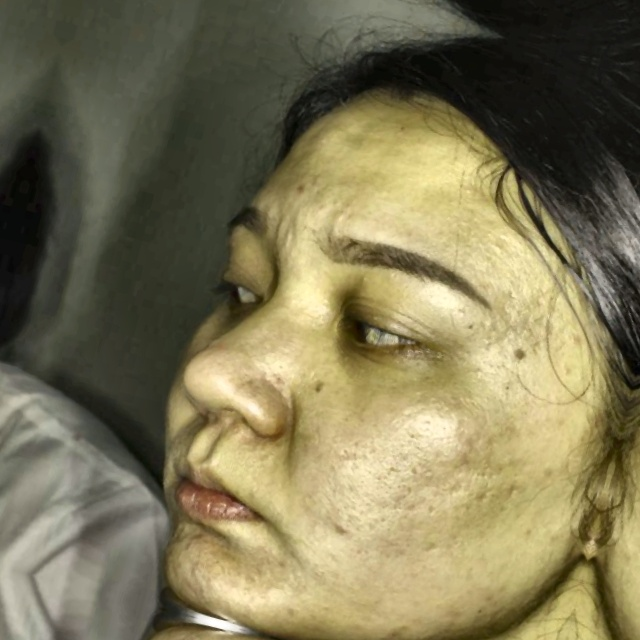comedone: (204, 330, 239, 363), (325, 516, 355, 543)
